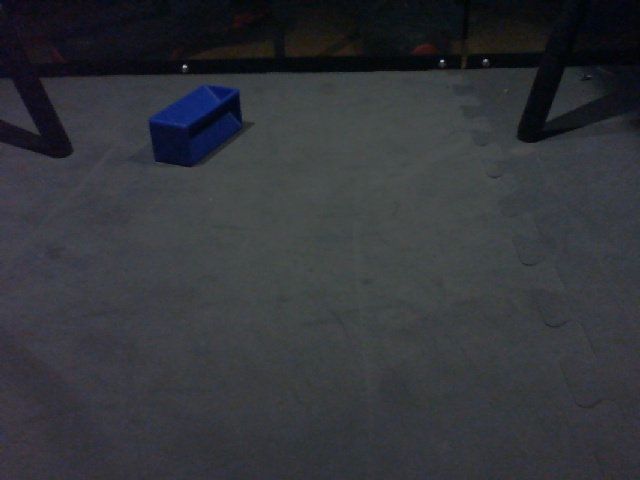BlueSample: (148, 82, 245, 167)
